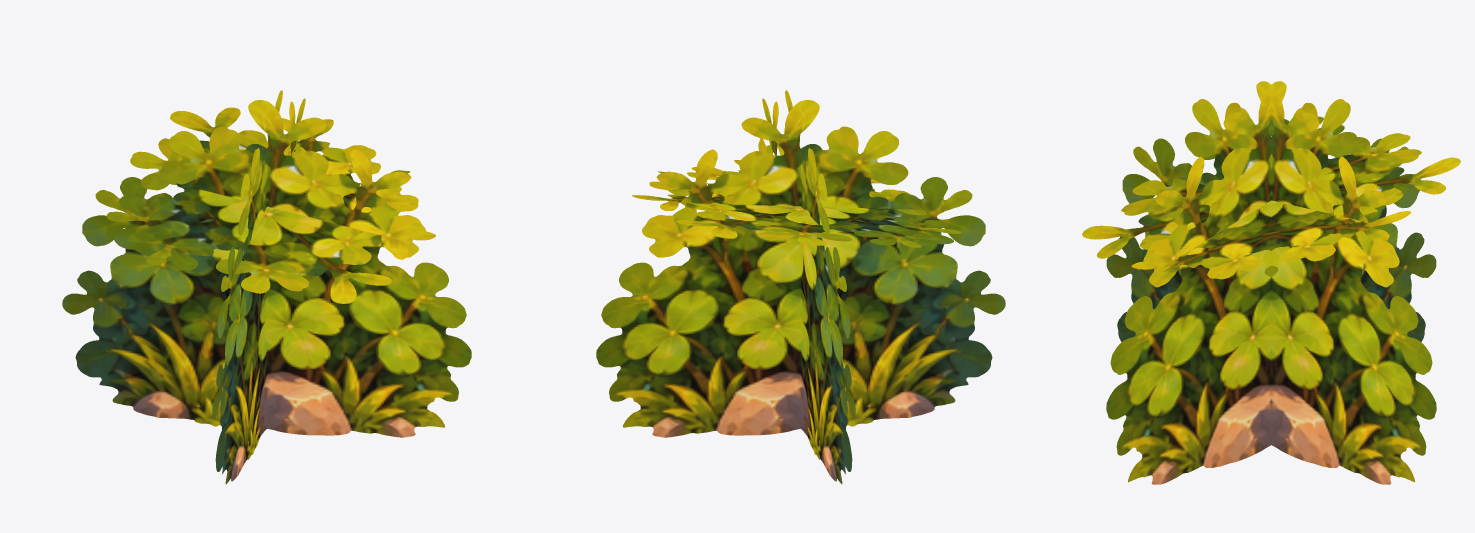
The model's file is Bush4.fbx.
3 renders of one model, left to right at view 1: azimuth 30°, elevation 25°; view 2: azimuth 150°, elevation 25°; view 3: azimuth 270°, elevation 25°, orthographic. The views are drawn at different scales.
Visible parts, largest first — view 1: Bush4_Body; view 2: Bush4_Body; view 3: Bush4_Body.
Boxes of the visible parts, box(x1,y1,x2,y2) form: Bush4_Body: box(62, 90, 471, 484); Bush4_Body: box(596, 90, 1005, 484); Bush4_Body: box(1082, 81, 1460, 484).
Size of the model in its own units: 1 by 0.95 by 0.8922.
1 material, 1 textured.
